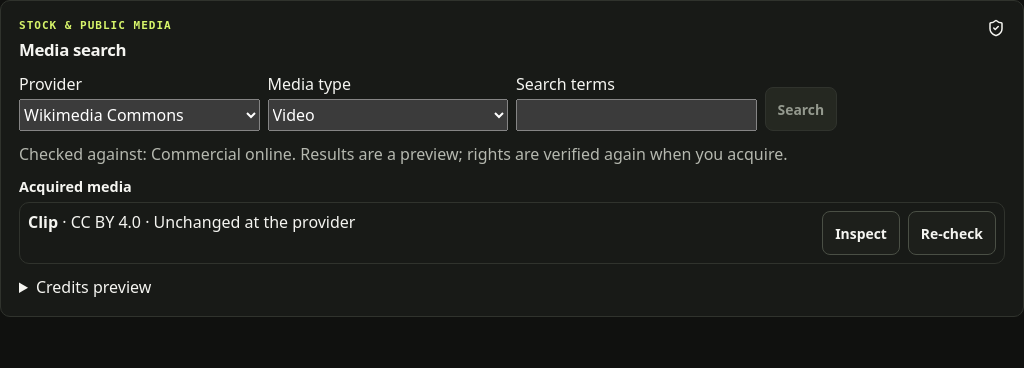
Test case: RightsPanel › re-checks a receipt with the provider
Click the button with aria-label "Re-check Clip with the provider" at (952, 233), box [908,211,996,255]
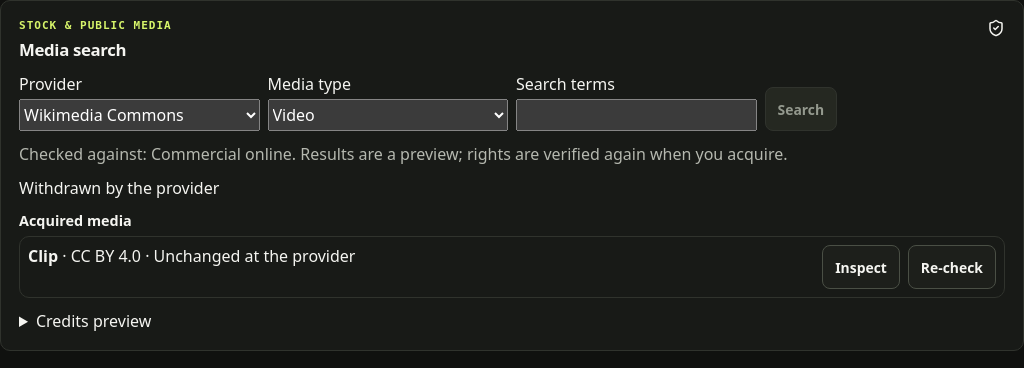
Check: the text "Withdrawn by the provider" is shown, box [19,177,219,199]
